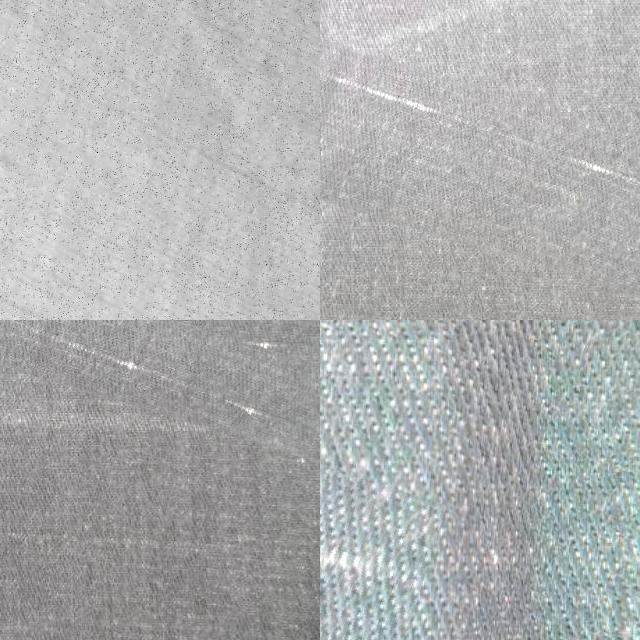Thread_other: (320, 65, 640, 297), (0, 320, 320, 417), (320, 437, 436, 640)
